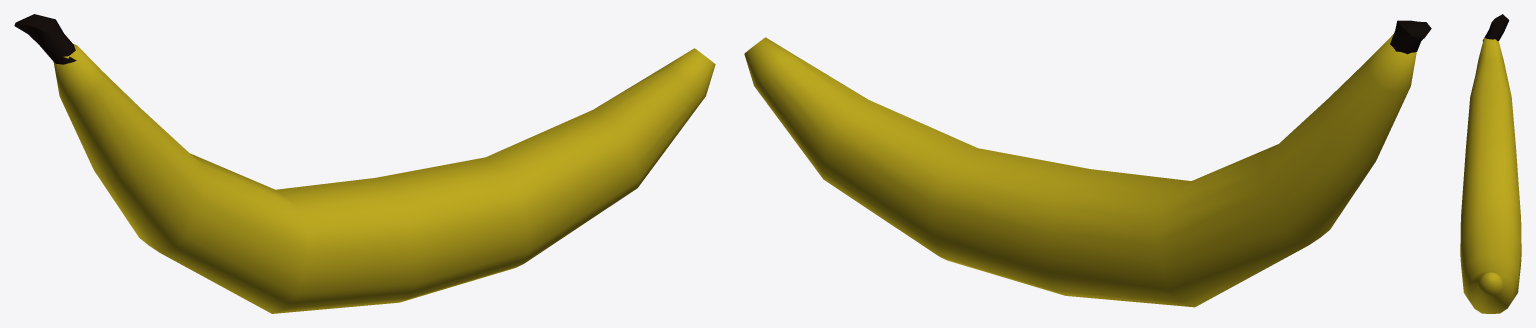
File: banane.FBX
3 views of the same model, side by side, from view 1: azimuth 30°, elevation 25°; view 2: azimuth 150°, elevation 25°; view 3: azimuth 270°, elevation 25° (orthographic). The views are drawn at different scales.
Visible parts, largest first — view 1: banane, queueBanane; view 2: banane, queueBanane; view 3: banane, queueBanane.
Part boxes in pixels (left/top/right/bottom): banane: left=53, top=44, right=715, bottom=313; queueBanane: left=14, top=14, right=76, bottom=64; banane: left=744, top=34, right=1416, bottom=307; queueBanane: left=1390, top=20, right=1431, bottom=54; banane: left=1460, top=37, right=1521, bottom=313; queueBanane: left=1482, top=14, right=1509, bottom=40.
Bounding box in the file's own units: 19.48 × 9.54 × 2.97.
